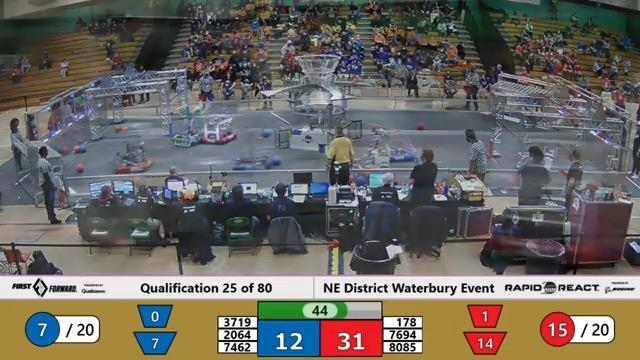robot: (231, 129, 273, 173), (351, 128, 389, 176), (113, 139, 153, 173), (202, 111, 238, 146), (172, 109, 203, 149), (390, 147, 415, 162)
